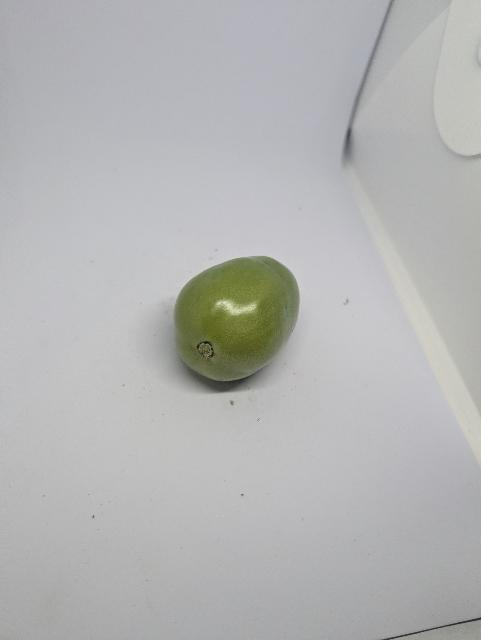green: (165, 232, 315, 403)
